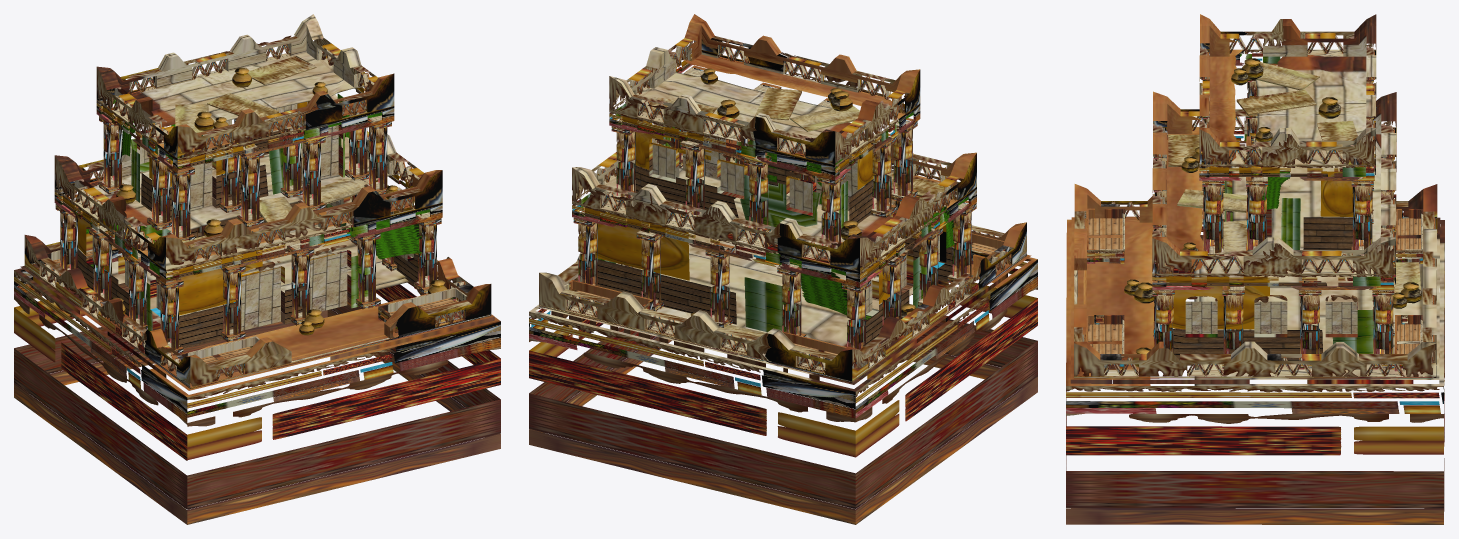
3 renders of one model, left to right at view 1: azimuth 30°, elevation 25°; view 2: azimuth 150°, elevation 25°; view 3: azimuth 270°, elevation 25°, orthographic. The views are drawn at different scales.
Visible parts, largest first — view 1: cc; view 2: cc; view 3: cc.
Part boxes in pixels (bbox=[...]): cc: bbox=[14, 14, 500, 524]; cc: bbox=[529, 14, 1037, 524]; cc: bbox=[1066, 14, 1444, 524].
Bounding box in the file's own units: 25.99 × 24.97 × 27.02.
